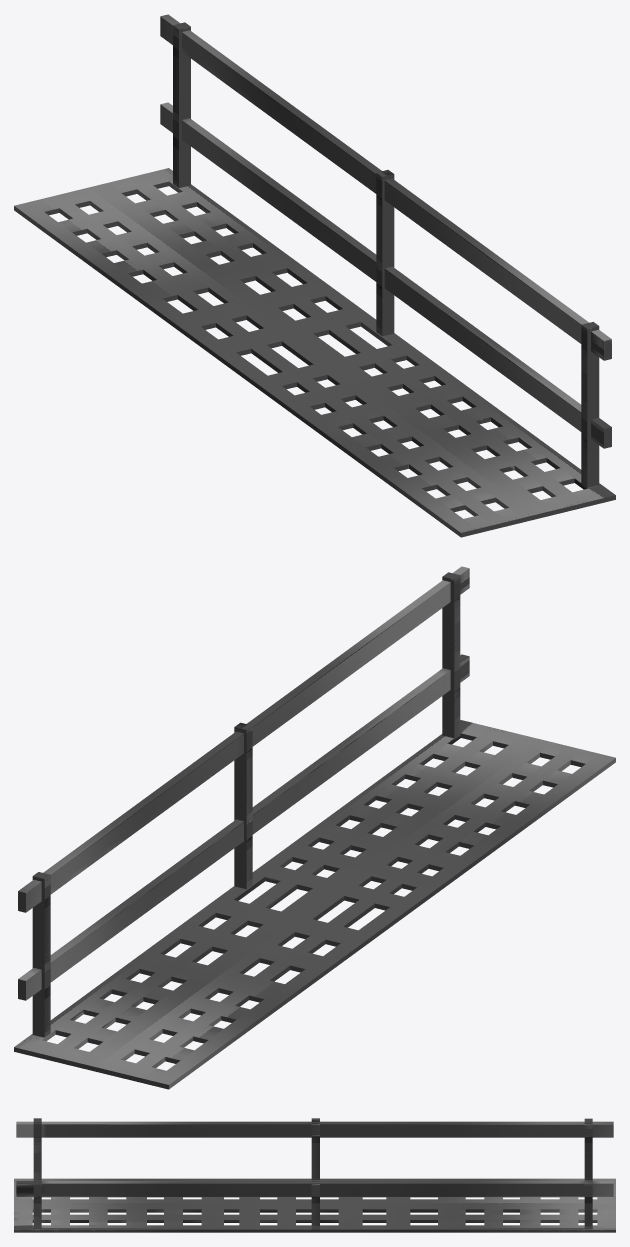
File: Catwalk.fbx
3 renders of one model, top to bottom at view 1: azimuth 30°, elevation 25°; view 2: azimuth 150°, elevation 25°; view 3: azimuth 270°, elevation 25°, orthographic. The views are drawn at different scales.
Parts seen in each view (by area): view 1: Cube.002; view 2: Cube.002; view 3: Cube.002.
Part boxes in pixels (x1,y1,x2,y2): Cube.002: [14, 14, 615, 537]; Cube.002: [14, 566, 615, 1089]; Cube.002: [14, 1118, 615, 1232].
Size of the model in its own units: 828 by 837 by 4137.
Materials: 1 (1 with a texture image).
